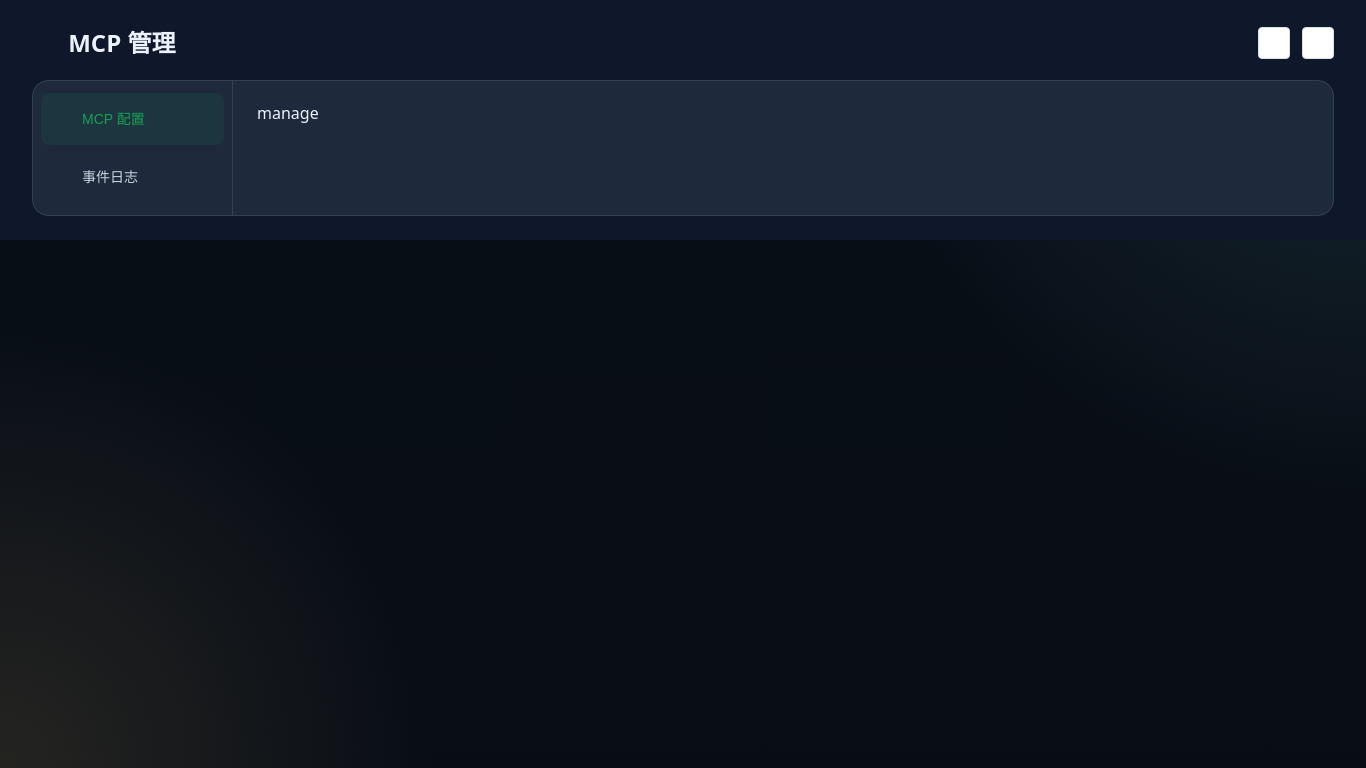
Test: McpView › renders mcp side navigation and passes the current view into config panel
Expected: the button titled "刷新配置" is shown, [1258, 27, 1290, 59]
Expected: the button titled "新增 Server" is shown, [1302, 27, 1334, 59]
Click the button titled "事件日志" at (132, 177), box [41, 151, 224, 203]
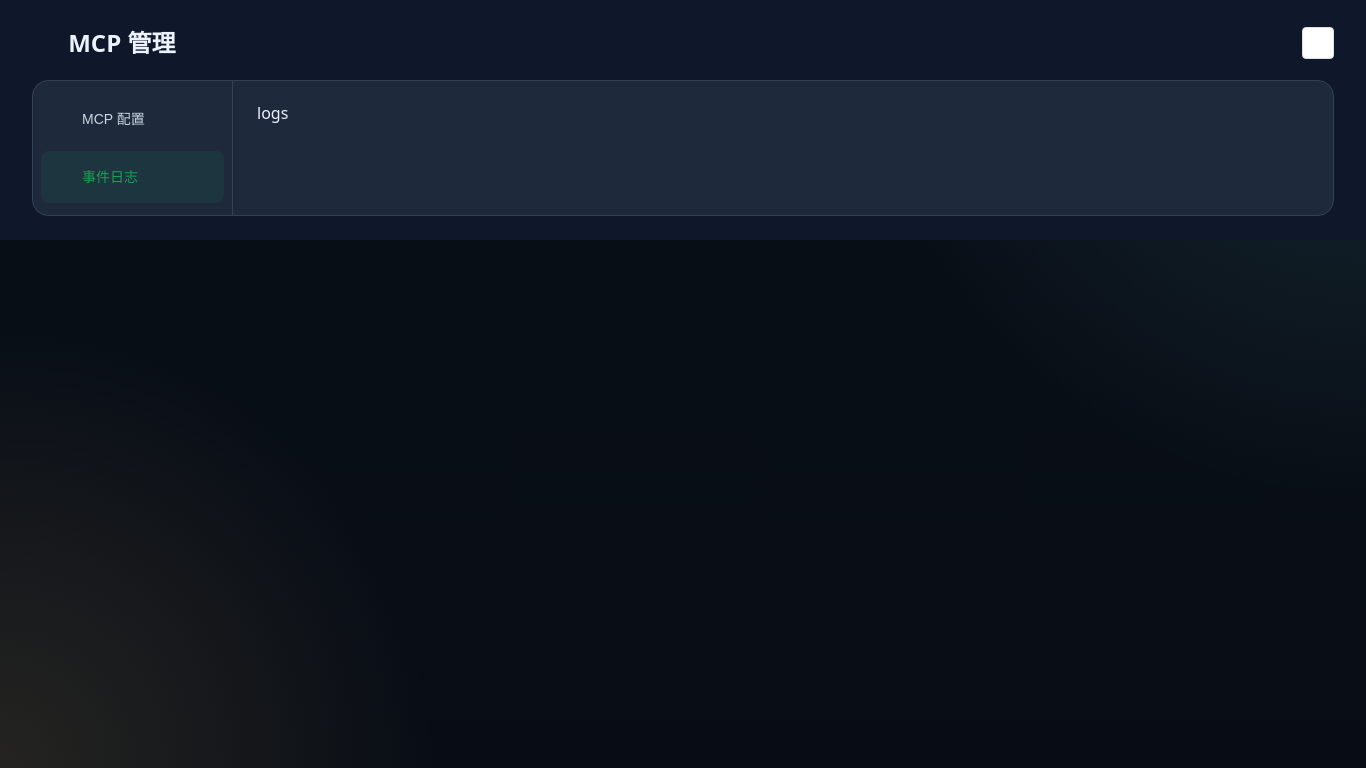
Expected: the button titled "刷新日志" is shown, [1302, 27, 1334, 59]
Expected: the text "logs" is shown, [257, 102, 288, 124]
